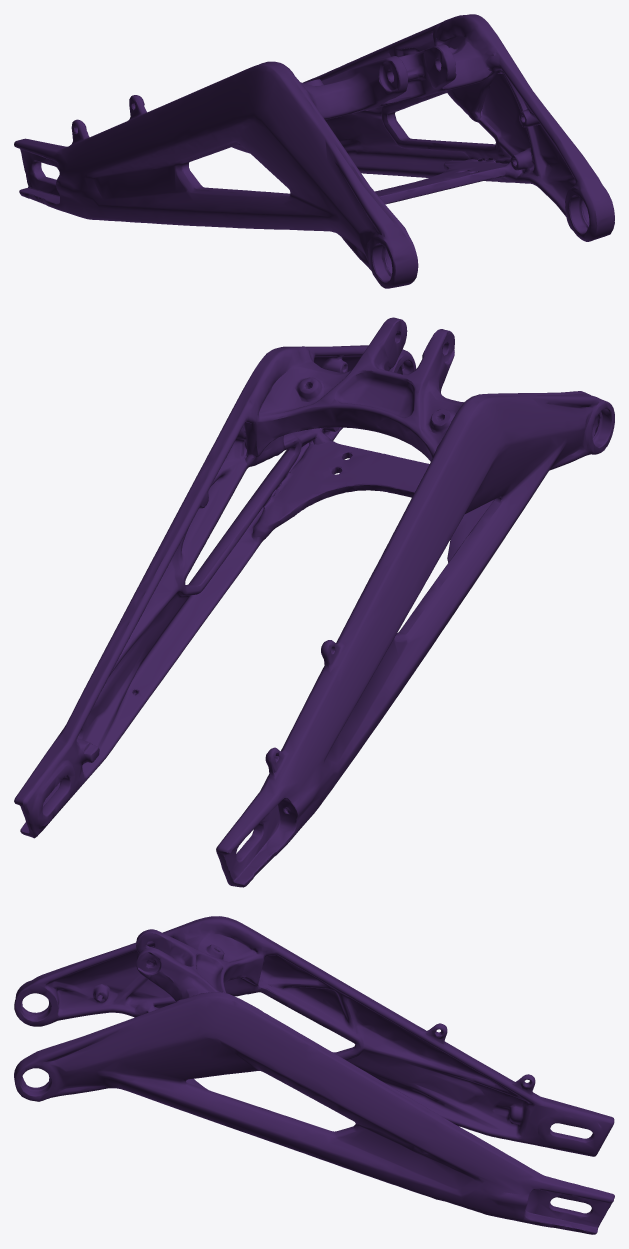
File: Swingarm.glb
3 views of the same model, one above another, from view 1: azimuth 30°, elevation 25°; view 2: azimuth 150°, elevation 25°; view 3: azimuth 270°, elevation 25° (orthographic). The views are drawn at different scales.
Parts seen in each view (by area): view 1: Swingarm_001; view 2: Swingarm_001; view 3: Swingarm_001.
Part boxes in pixels (x1,y1,x2,y2): Swingarm_001: (14,14,614,288); Swingarm_001: (14,317,614,887); Swingarm_001: (14,916,614,1234).
Bounding box in the file's own units: 190 × 241 × 517.
